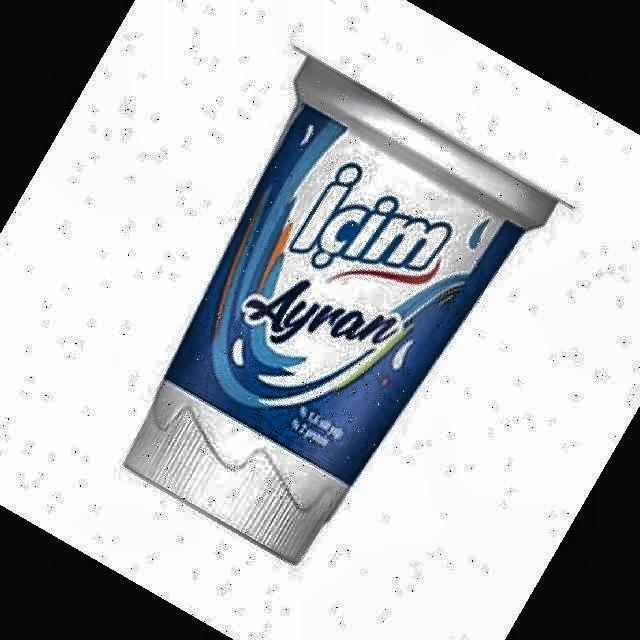plastic: (126, 56, 558, 562)
